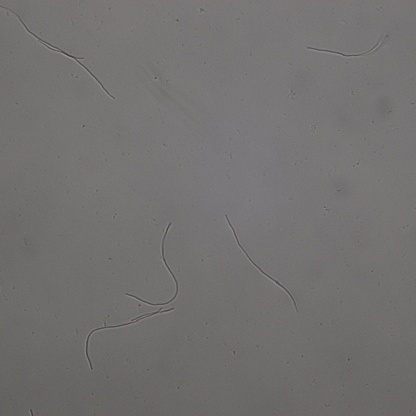Sensitive: (226, 215, 299, 311), (85, 307, 173, 369), (126, 222, 180, 306), (1, 6, 82, 60), (39, 41, 113, 97), (307, 33, 386, 56)
